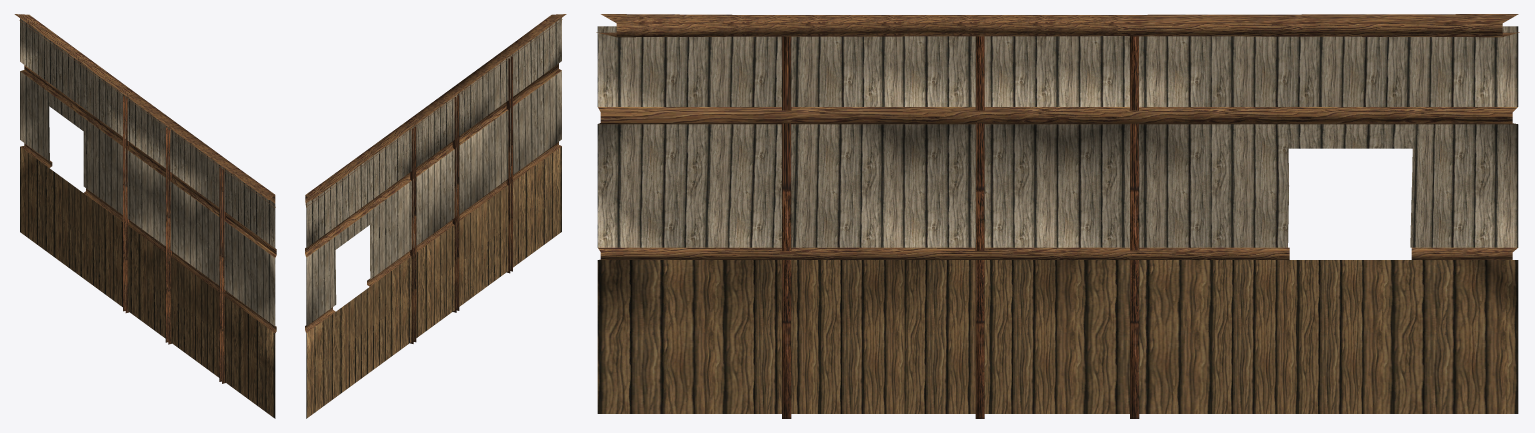
The model's file is LAKETOWN_WAREHOUSE2_PS_WH2_SIDEWALL8877__GX.fbx.
The picture shows the model from 3 angles, left to right: view 1: azimuth 30°, elevation 25°; view 2: azimuth 150°, elevation 25°; view 3: azimuth 270°, elevation 25°; orthographic projection. The views are drawn at different scales.
Visible parts, largest first — view 1: LAKETOWN_WAREHOUSE2_PS_WH2_SIDEWALL8877__GX; view 2: LAKETOWN_WAREHOUSE2_PS_WH2_SIDEWALL8877__GX; view 3: LAKETOWN_WAREHOUSE2_PS_WH2_SIDEWALL8877__GX.
Boxes of the visible parts, left/top/right/bottom form: LAKETOWN_WAREHOUSE2_PS_WH2_SIDEWALL8877__GX: left=14, top=14, right=276, bottom=418; LAKETOWN_WAREHOUSE2_PS_WH2_SIDEWALL8877__GX: left=305, top=14, right=566, bottom=418; LAKETOWN_WAREHOUSE2_PS_WH2_SIDEWALL8877__GX: left=596, top=14, right=1519, bottom=418.
Bounding box in the file's own units: 5821 × 114126 × 240116.
5 materials, 5 textured.
